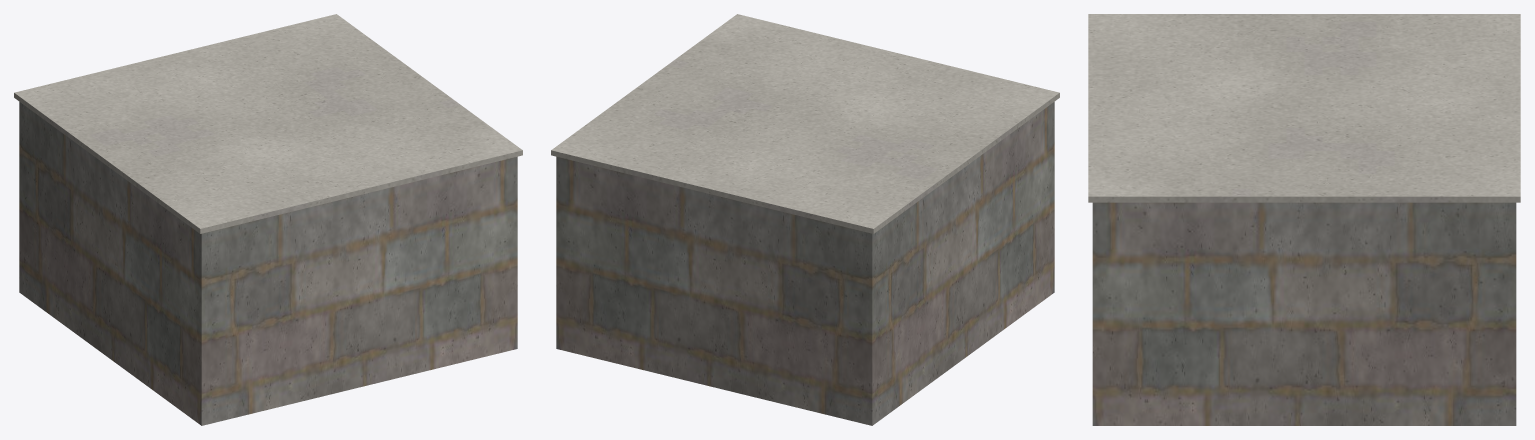
The model's file is floor_vault.glb.
3 renders of one model, left to right at view 1: azimuth 30°, elevation 25°; view 2: azimuth 150°, elevation 25°; view 3: azimuth 270°, elevation 25°, orthographic. The views are drawn at different scales.
Parts seen in each view (by area): view 1: floor_vault_granite, floor_vault_concrete; view 2: floor_vault_granite, floor_vault_concrete; view 3: floor_vault_granite, floor_vault_concrete.
Boxes of the visible parts, <box> form: floor_vault_granite: <box>19,102,517,425</box>; floor_vault_concrete: <box>14,14,522,233</box>; floor_vault_granite: <box>556,102,1054,425</box>; floor_vault_concrete: <box>551,14,1059,233</box>; floor_vault_granite: <box>1092,202,1516,425</box>; floor_vault_concrete: <box>1088,14,1520,202</box>.
Size of the model in its own units: 2 by 1.18 by 2.
2 materials, 2 textured.
